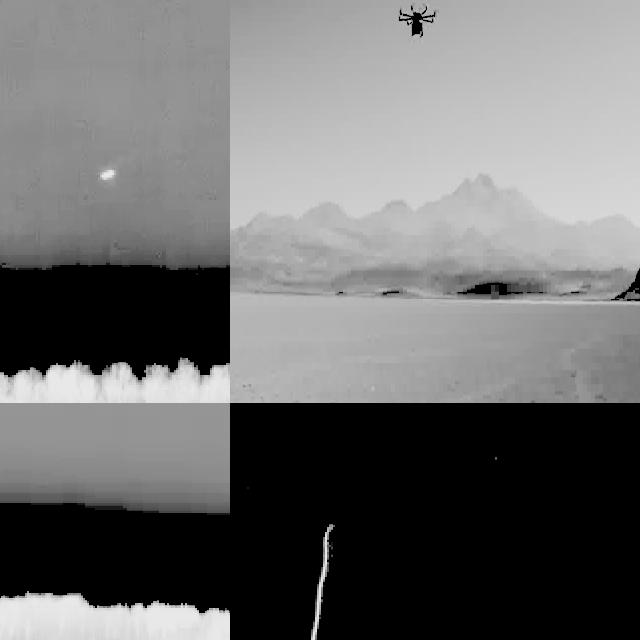1: (92, 162, 128, 192)
drone: (391, 0, 440, 44)
